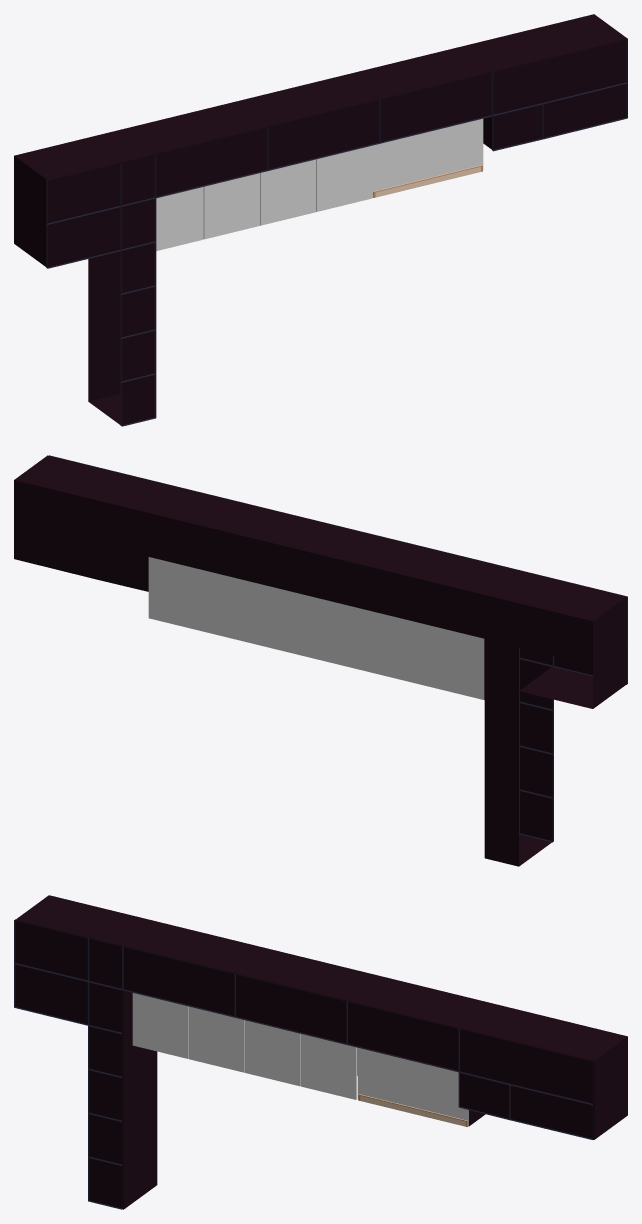
The model's file is _eDoNauAn.fbx.
3 views of the same model, one above another, from view 1: azimuth 30°, elevation 25°; view 2: azimuth 150°, elevation 25°; view 3: azimuth 330°, elevation 25° (orthographic).
Visible parts, largest first — view 1: KeDoNauAn, KeDoNauAn.012, Cube.004, KeDoNauAn.009, KeDoNauAn.011, KeDoNauAn.010, KeDoNauAn.008, Cube; view 2: KeDoNauAn, KeDoNauAn.012, Cube.004; view 3: KeDoNauAn, KeDoNauAn.012, Cube.004, KeDoNauAn.008, KeDoNauAn.010, KeDoNauAn.011, KeDoNauAn.009, Cube.
Part boxes in pixels (box(x1,y1,x2,y2)): KeDoNauAn: box(14, 14, 627, 425); KeDoNauAn.012: box(372, 118, 483, 197); Cube.004: box(46, 39, 627, 426); KeDoNauAn.009: box(203, 173, 259, 239); KeDoNauAn.011: box(316, 146, 372, 211); KeDoNauAn.010: box(260, 159, 315, 225); KeDoNauAn.008: box(156, 187, 203, 250); Cube: box(373, 165, 482, 197); KeDoNauAn: box(14, 455, 626, 866); KeDoNauAn.012: box(148, 557, 484, 699); Cube.004: box(49, 455, 627, 842); KeDoNauAn: box(15, 895, 627, 1209); KeDoNauAn.012: box(357, 1047, 485, 1126); Cube.004: box(14, 919, 592, 1209); KeDoNauAn.008: box(132, 993, 188, 1058); KeDoNauAn.010: box(244, 1020, 300, 1086); KeDoNauAn.011: box(300, 1034, 356, 1099); KeDoNauAn.009: box(188, 1006, 244, 1072); Cube: box(358, 1094, 467, 1126).
Bounding box in the file's own units: 6.91 × 3 × 0.7052.
